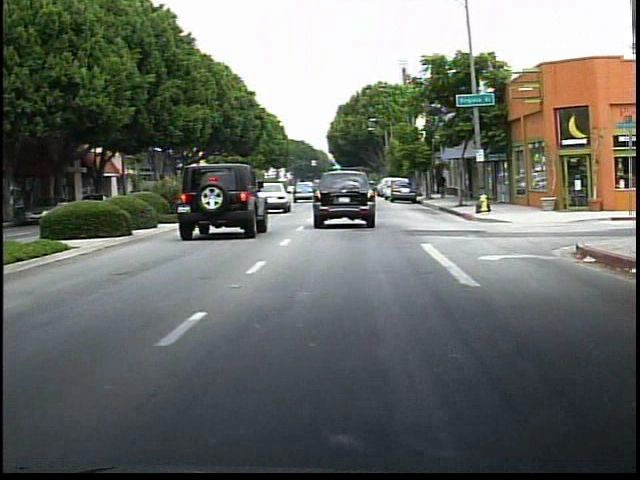person: (433, 166, 454, 203)
